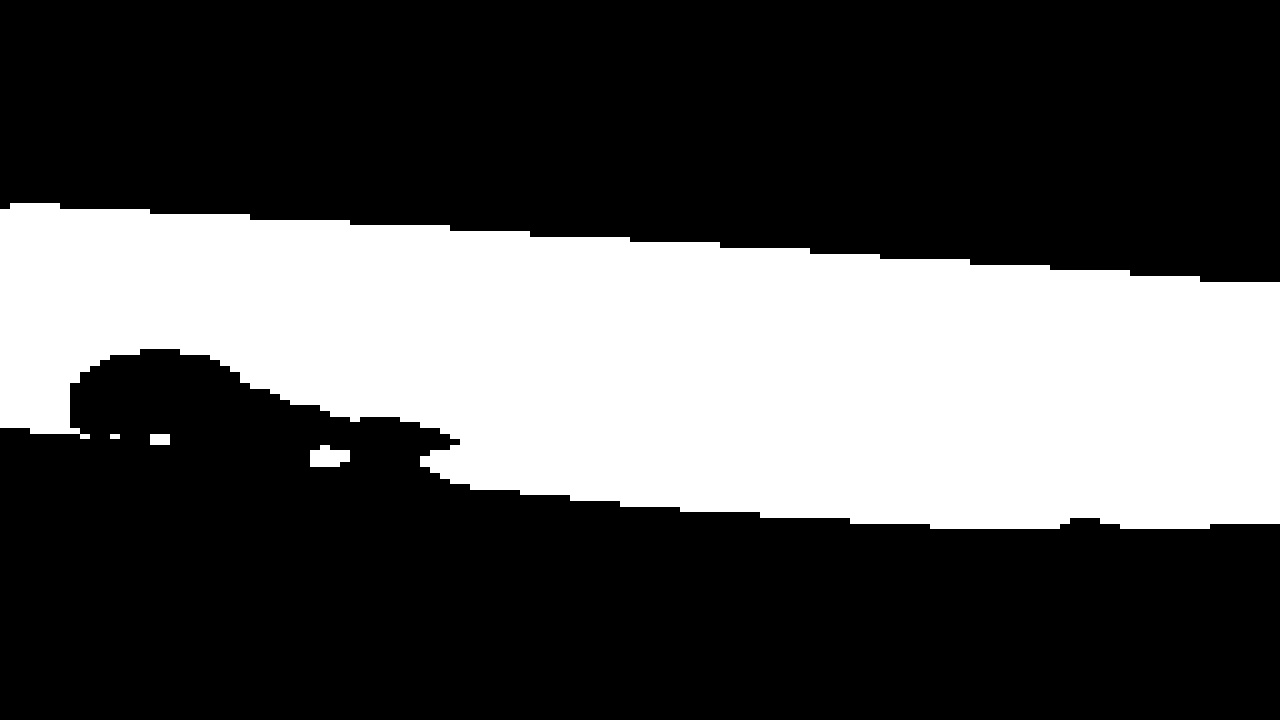Turbine: (2, 188, 1272, 550)
